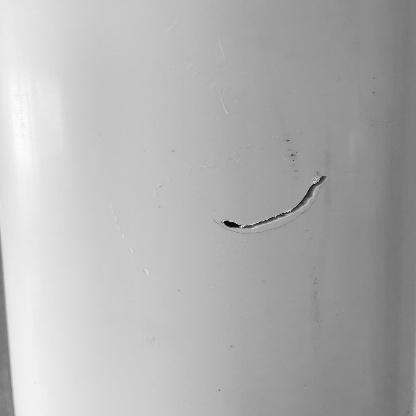fengxi: (219, 174, 329, 231)
